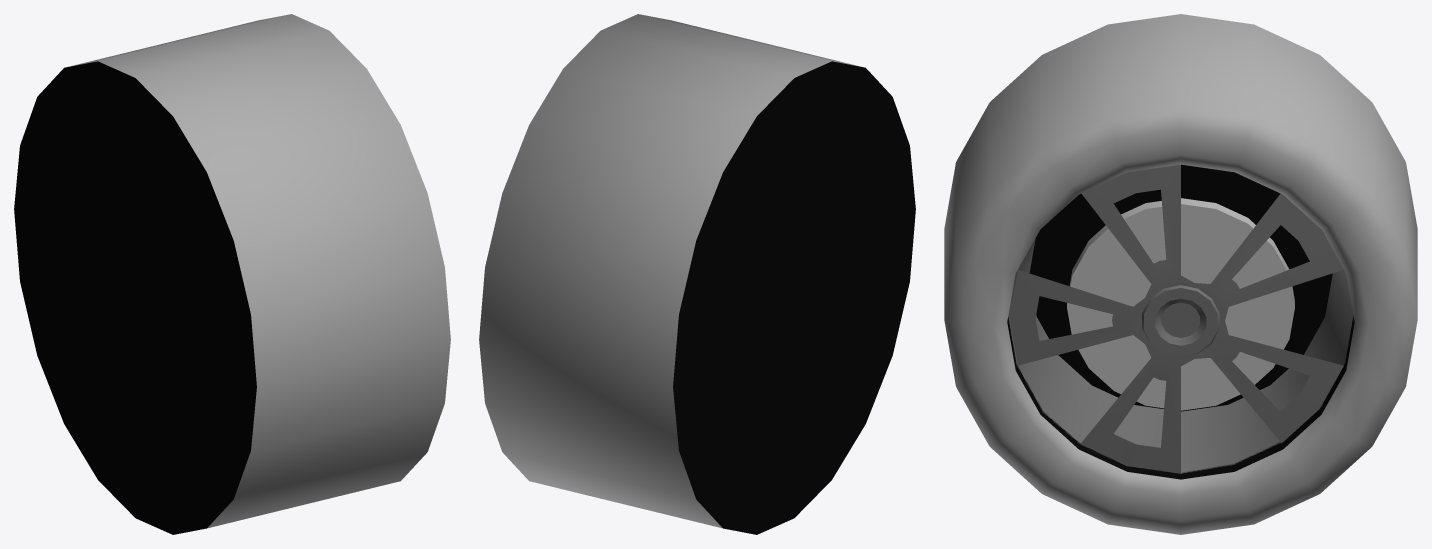
The model's file is Base_wheel.fbx.
The picture shows the model from 3 angles, left to right: view 1: azimuth 30°, elevation 25°; view 2: azimuth 150°, elevation 25°; view 3: azimuth 270°, elevation 25°; orthographic projection. The views are drawn at different scales.
Parts seen in each view (by area): view 1: Main_shpe.002; view 2: Main_shpe.002; view 3: Main_shpe.002.
Part boxes in pixels (x1,y1,x2,y2): Main_shpe.002: (14, 14, 450, 534); Main_shpe.002: (479, 14, 915, 534); Main_shpe.002: (944, 14, 1417, 534).
Bounding box in the file's own units: 43.14 × 89.26 × 89.26.
